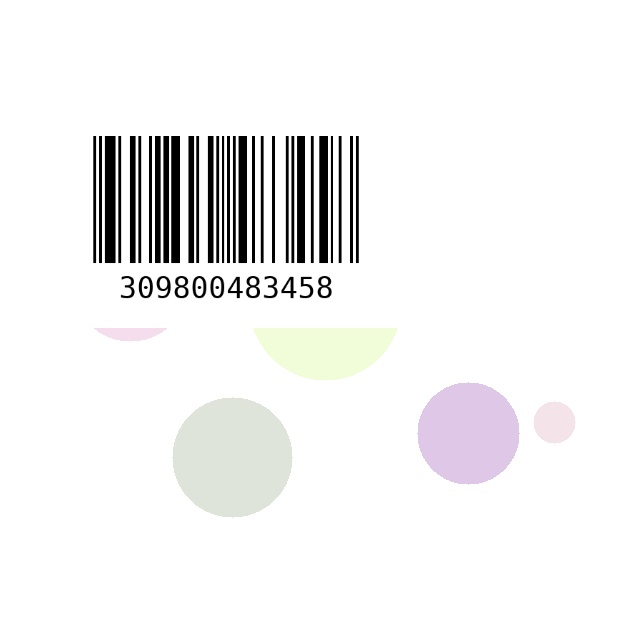barcode: (39, 128, 413, 328)
